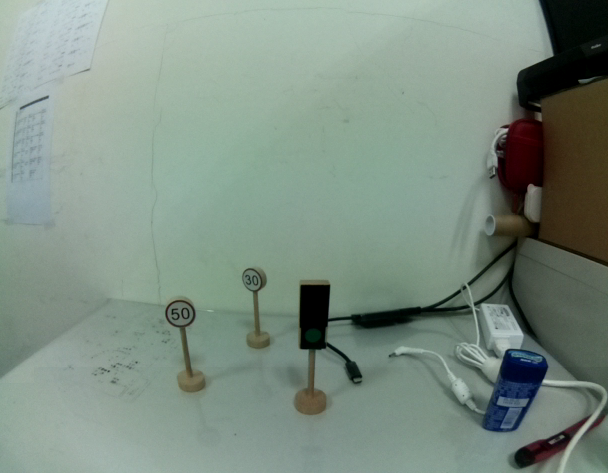Green: (297, 280, 331, 352)
Speed30: (239, 264, 268, 293)
Speed50: (164, 297, 201, 330)
